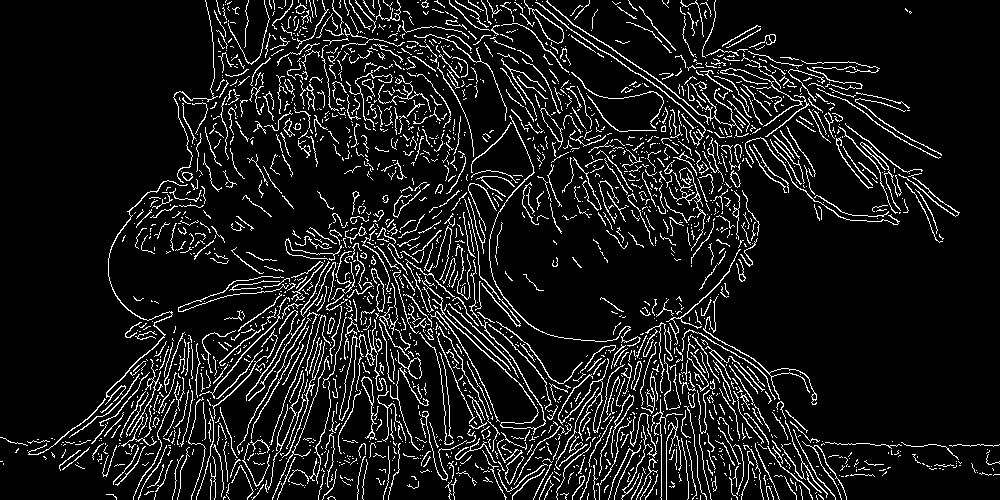red_onion: (177, 1, 511, 498), (464, 9, 762, 500), (97, 154, 269, 496), (549, 3, 944, 131)
